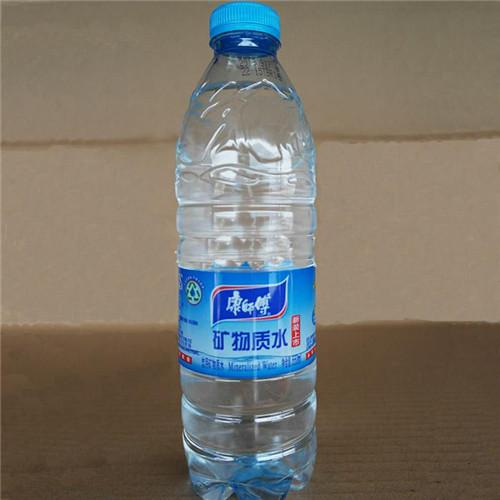amwater: (165, 1, 334, 494)
